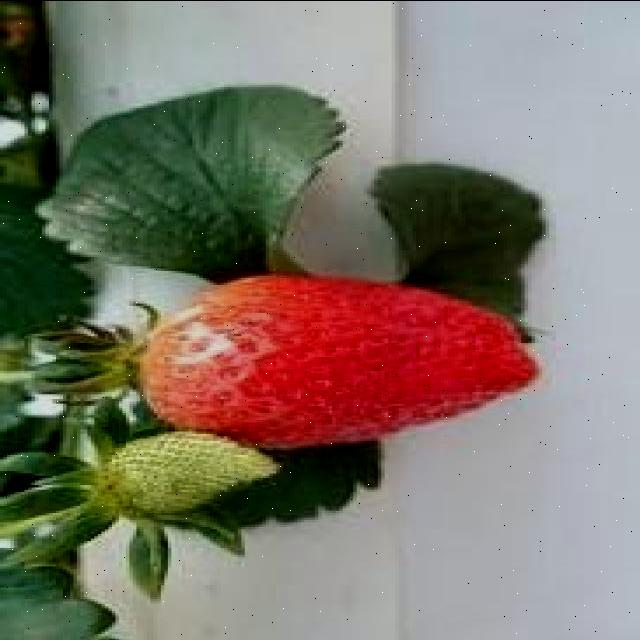ripe: (135, 274, 540, 448)
unripe: (102, 428, 282, 514)
